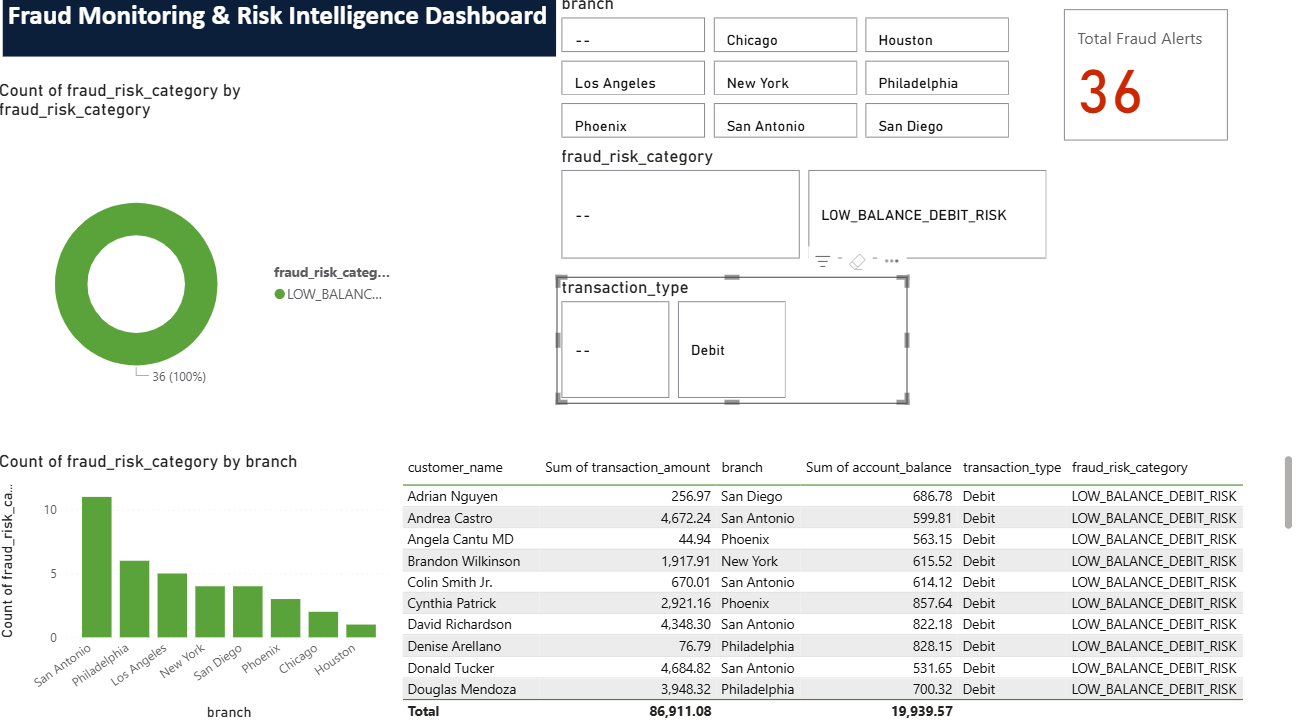

The dashboard page shown, as its layout file describes it:
{"tool":"powerbi","page":{"name":"Fraud Risk Monitoring","canvas":[1280,720],"ordinal":1},"visuals":[{"type":"textbox","box":[8.9,0,543,62.6],"z":0},{"type":"cardVisual","fields":{"Data":["analytics fraud_alerts.Total Fraud Alerts"]},"box":[1045.6,10.6,171.6,139.9],"z":1000},{"type":"clusteredColumnChart","fields":{"Category":["analytics fraud_alerts.branch"],"Y":["CountNonNull(analytics fraud_alerts.fraud_risk_category)"]},"box":[0,449.2,395.5,270.4],"z":2000},{"type":"donutChart","fields":{"Category":["analytics fraud_alerts.fraud_risk_category"],"Y":["CountNonNull(analytics fraud_alerts.fraud_risk_category)"]},"box":[0,84.9,395.5,364.2],"z":3000},{"type":"tableEx","fields":{"Values":["analytics fraud_alerts.customer_name","Sum(analytics fraud_alerts.transaction_amount)","analytics fraud_alerts.branch","Sum(analytics fraud_alerts.account_balance)","analytics fraud_alerts.transaction_type","analytics fraud_alerts.fraud_risk_category"]},"box":[395.5,449.2,884.9,270.4],"z":4000},{"type":"advancedSlicerVisual","fields":{"Values":["analytics fraud_alerts.branch"]},"box":[551.7,0,451.7,150],"z":5000},{"type":"advancedSlicerVisual","fields":{"Values":["analytics fraud_alerts.fraud_risk_category"]},"box":[551.7,150,728.3,116.7],"z":6000},{"type":"advancedSlicerVisual","fields":{"Values":["analytics fraud_alerts.transaction_type"]},"box":[551.7,278.3,345,125],"z":7000}]}

Visuals, with their boxes in screenshot pixels (x1, y1, x2, y2), scaled from the page's 1280x720 canvas onto the 1297x722 screenshot:
textbox: detection(9, 0, 559, 63)
cardVisual - analytics fraud_alerts.Total Fraud Alerts: detection(1059, 11, 1233, 151)
clusteredColumnChart - analytics fraud_alerts.branch x CountNonNull(analytics fraud_alerts.fraud_risk_category): detection(0, 450, 401, 721)
donutChart - analytics fraud_alerts.fraud_risk_category x CountNonNull(analytics fraud_alerts.fraud_risk_category): detection(0, 85, 401, 450)
tableEx - analytics fraud_alerts.customer_name x Sum(analytics fraud_alerts.transaction_amount): detection(401, 450, 1296, 721)
advancedSlicerVisual - analytics fraud_alerts.branch: detection(559, 0, 1017, 150)
advancedSlicerVisual - analytics fraud_alerts.fraud_risk_category: detection(559, 150, 1296, 267)
advancedSlicerVisual - analytics fraud_alerts.transaction_type: detection(559, 279, 909, 404)
